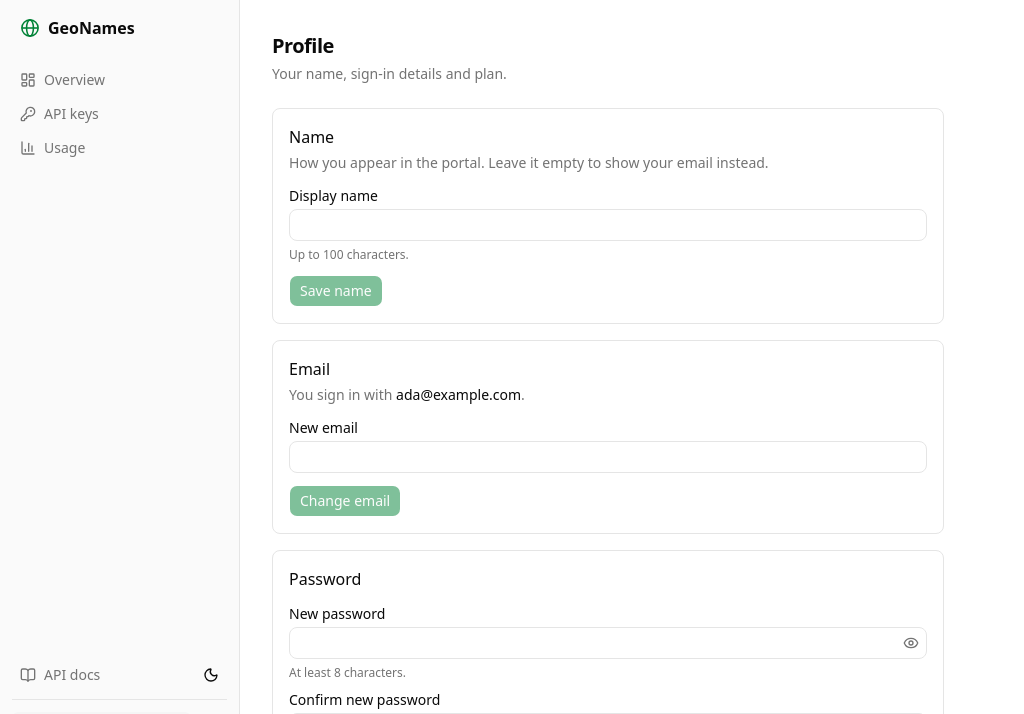
Test: email › refuses the current address
Type "ADA@example.com" into the field labelled "New email".
click(608, 457); type("ADA@example.com")  # box [289,441,927,473]
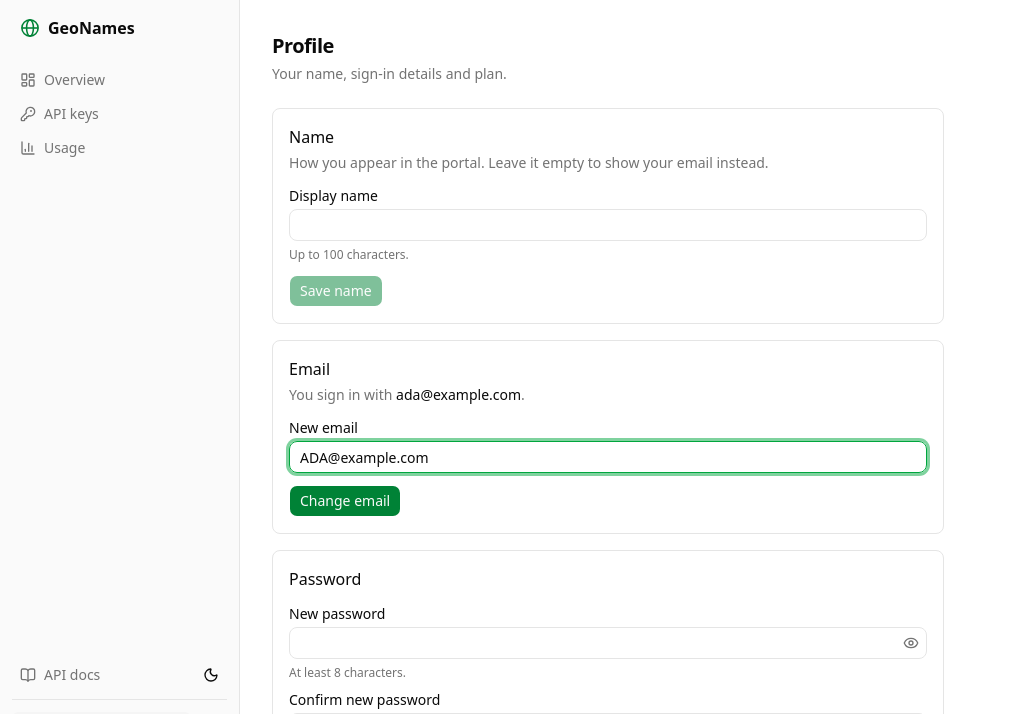
Click the button "Change email".
click(345, 501)  # box [289,485,401,517]
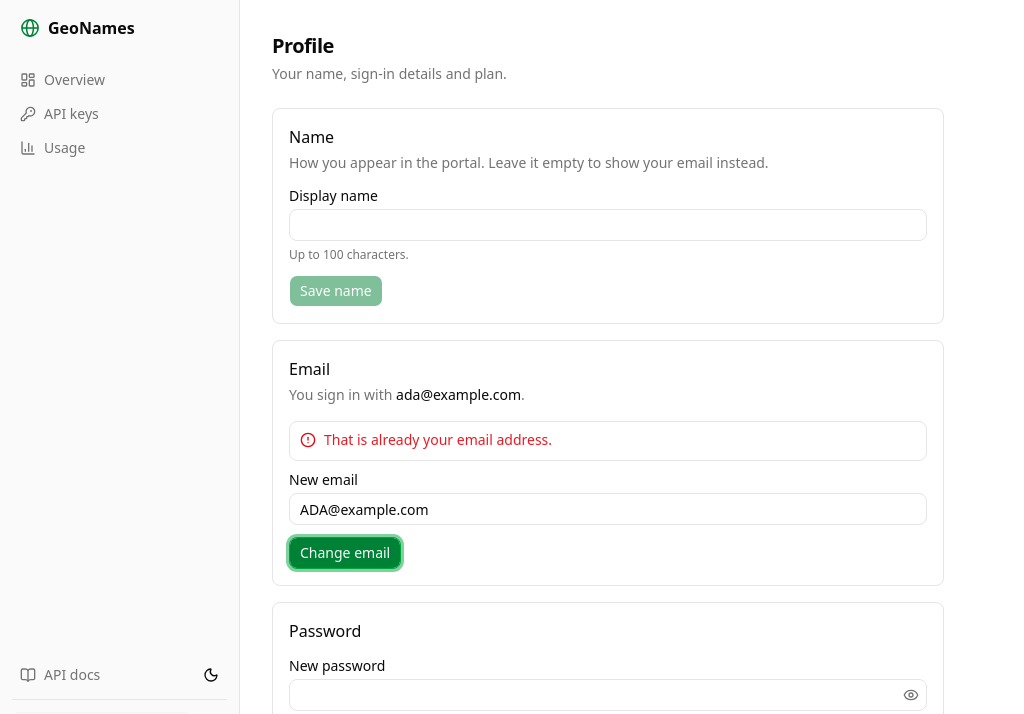
expect the text "That is already your email address." is shown: met, box [324,430,552,449]
